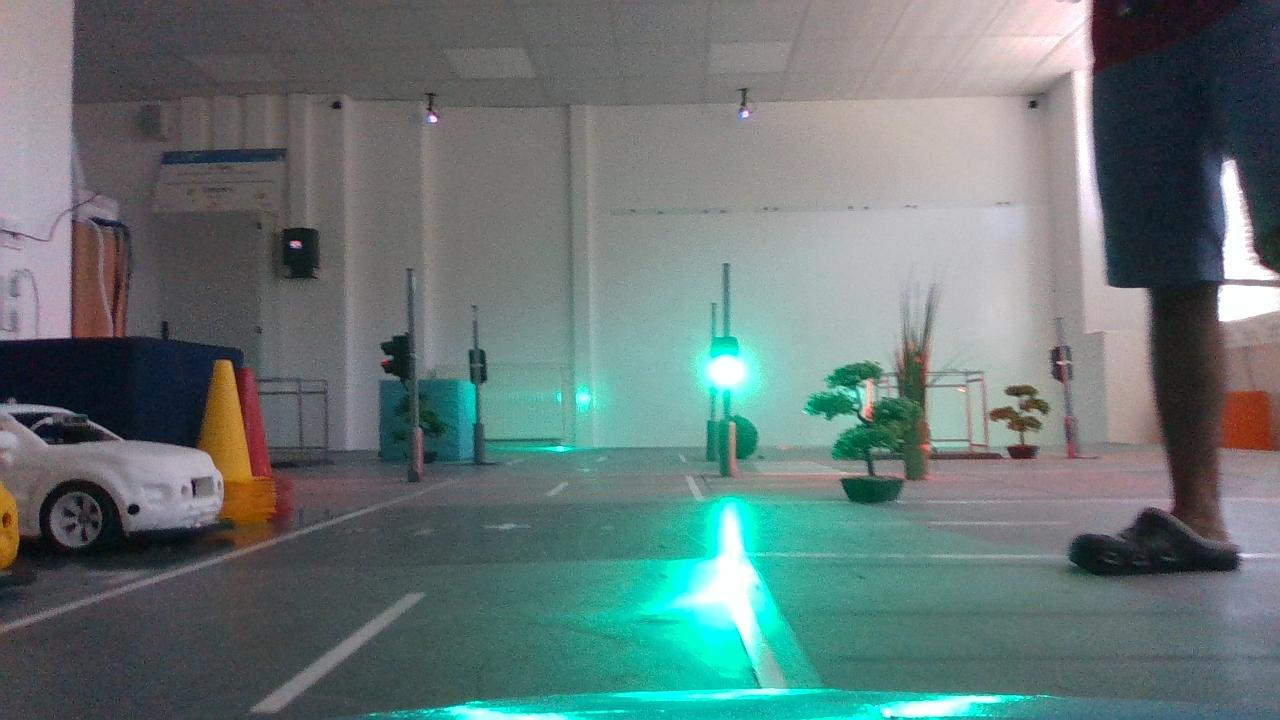traffic_light_green: (705, 327, 751, 399)
